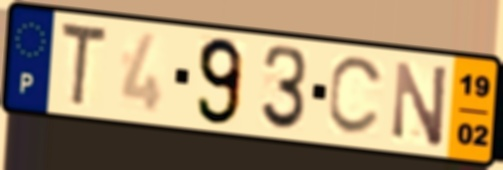3: (259, 44, 310, 134)
4: (116, 30, 168, 117)
9: (192, 35, 249, 129)
C: (324, 54, 388, 139)
N: (391, 58, 452, 151)
T: (57, 18, 110, 112)
